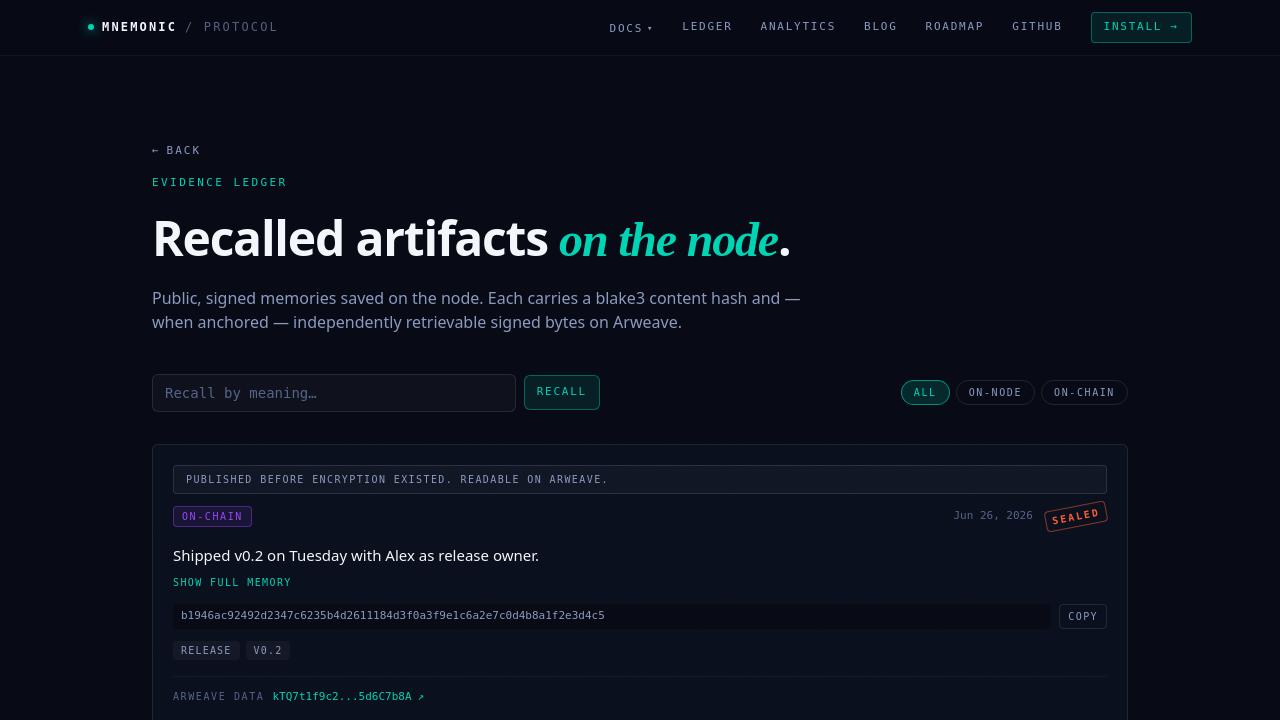
Ledger page › expands_and_collapses_the_recovered_memory
Check: the text "Shipped v0.2 on Tuesday with Alex as release owner." is shown, box [173,544,539,564]
What coordinates should you click on to do the following:
click the button "Show full memory"
I would click on:
 (232, 582)
Its box is [173,575,292,590].
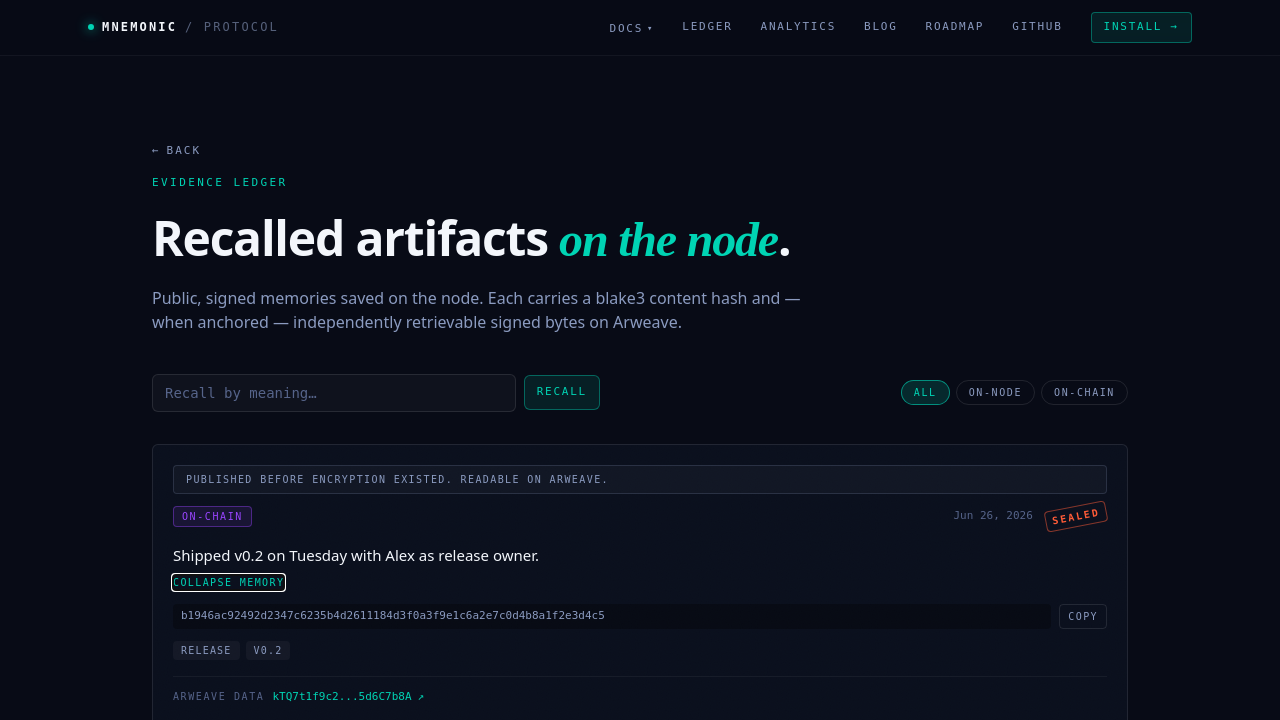
Check: the button named "show full memory" is expanded
Check: the button named "show full memory" reads "Collapse memory"
What coordinates should you click on to do the following:
click the button named "show full memory"
I would click on:
 (229, 582)
Its box is [173,575,284,590].
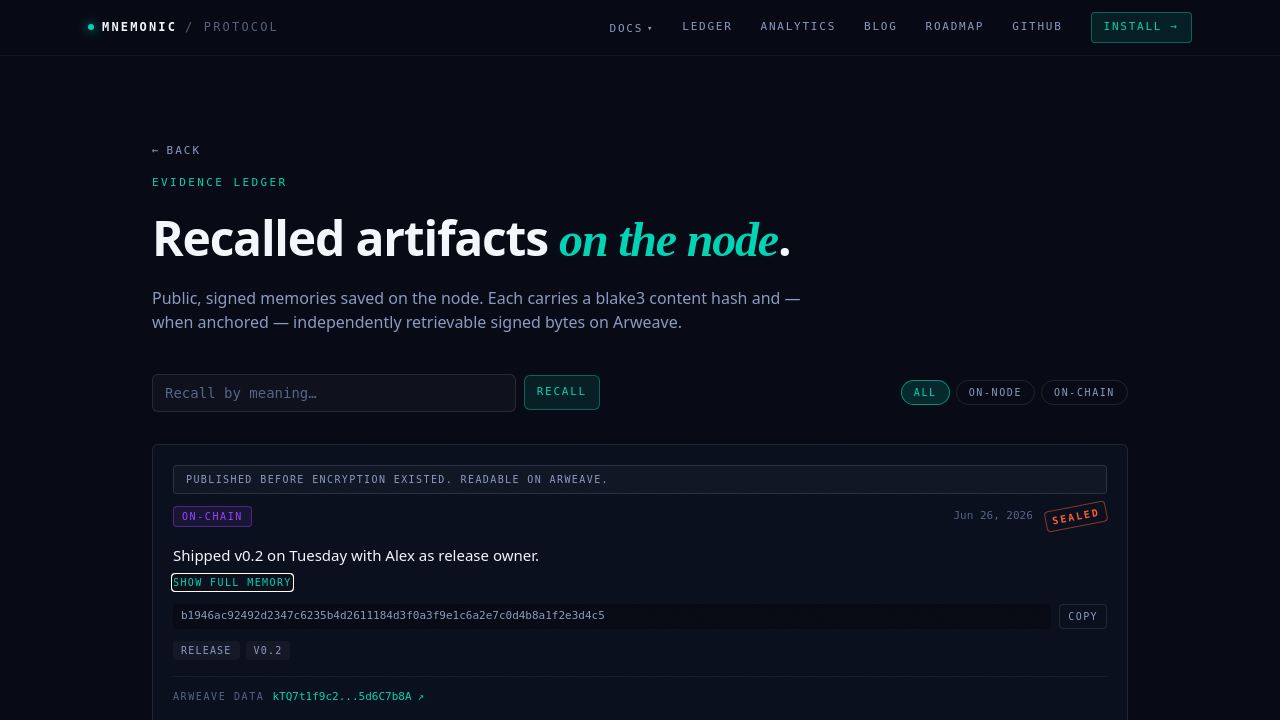
Check: the button "Show full memory" is collapsed, box [173,575,292,590]
